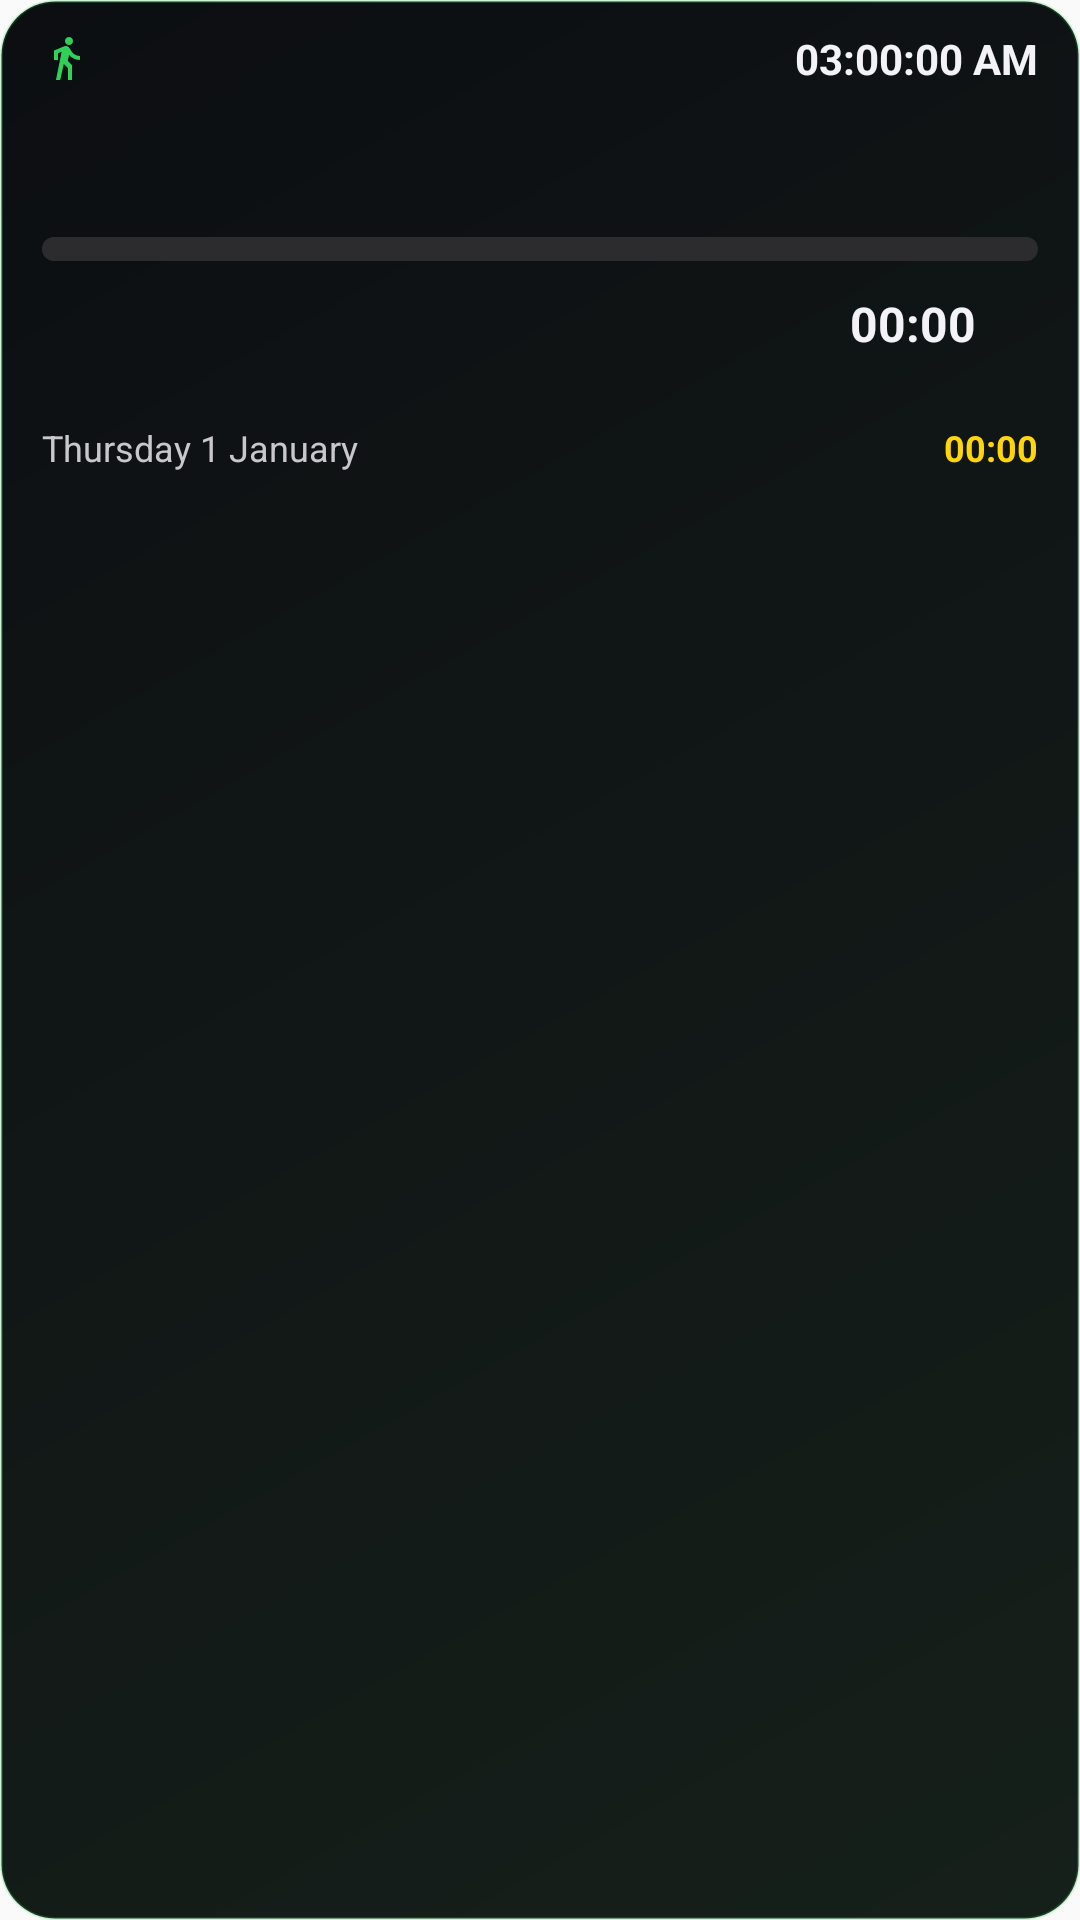

Icon click points for this 1080×1920 phone screenshot, format (x=x, y=y):
steps: (x=67, y=58)
